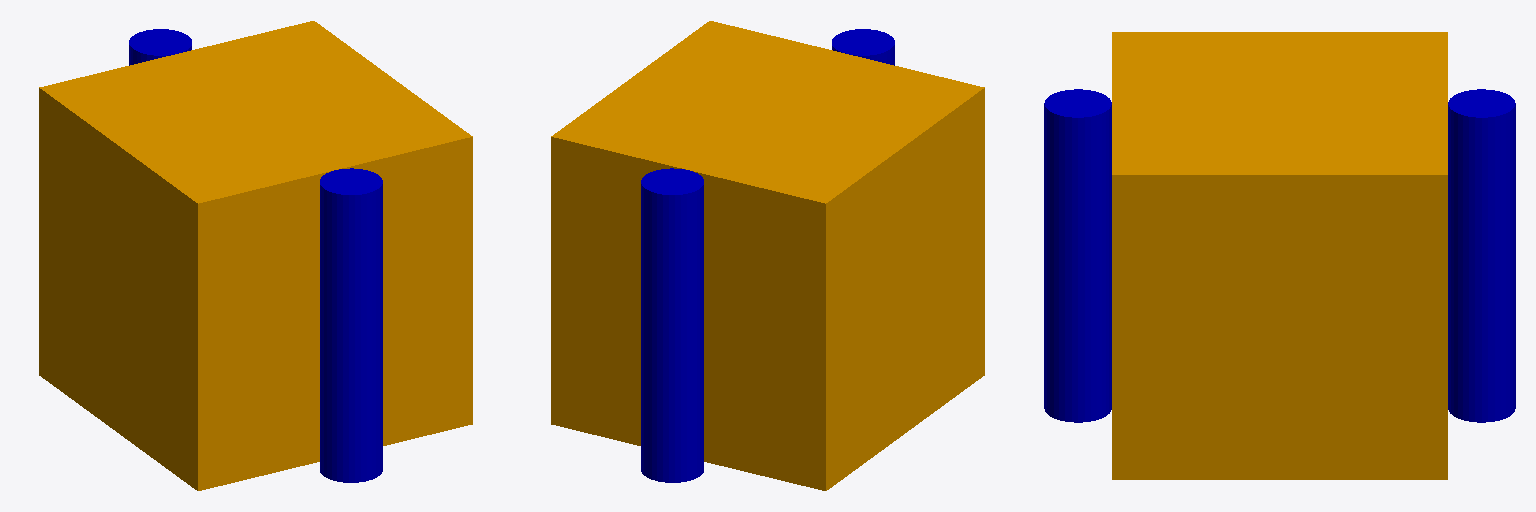
robot.urdf — myfirst:
<?xml version="1.0"?>
<robot name="myfirst">
  <link name="base_link">
    <visual>
      <geometry>
        <box size="1 1 1"/>
      </geometry>
      <origin xyz="0 0 0"/>
    </visual>
  </link>

	
  <joint name="left_joint" type="continuous">
    <parent link="base_link"/>
    <child link="left_link"/>
	<axis xyz="0 1 0"/>
	<origin xyz="0 -0.5 0.5"/>
  </joint>


   <link name="left_link">
    <visual>
      <geometry>
        <cylinder length="1" radius="0.1"/>
      </geometry>
      <origin xyz="0 -0.1 -0.5"/>
      <material name="blue">
        <color rgba="0 0 .8 1"/>
      </material>
    </visual>
  </link>

  <joint name="right_joint" type="continuous">
    <parent link="base_link"/>
    <child link="right_link"/>
	<axis xyz="0 1 0"/>
	<origin xyz="0 0.5 0.5"/>
  </joint>

   <link name="right_link">
    <visual>
      <geometry>
        <cylinder length="1" radius="0.1"/>
      </geometry>
      <origin xyz="0 0.1 -0.5"/>
      <material name="blue">
        <color rgba="0 0 .8 1"/>
      </material>
    </visual>
  </link>


</robot>

--- Render facts (derived) ---
3 views of the same robot in one strip: view 1: azimuth 30°, elevation 25°; view 2: azimuth 150°, elevation 25°; view 3: azimuth 270°, elevation 25° (orthographic).
Model myfirst with 3 links and 2 joints (2 continuous), rooted at base_link, posed all joints at 0.
Links seen in each view (by area): view 1: base_link, left_link, right_link; view 2: base_link, right_link, left_link; view 3: base_link, left_link, right_link.
Link boxes in pixels (box(x1,y1,x2,y2)): base_link: box(39, 21, 472, 490); left_link: box(320, 168, 382, 482); right_link: box(129, 29, 191, 65); base_link: box(551, 21, 984, 490); right_link: box(641, 168, 703, 482); left_link: box(832, 29, 894, 65); base_link: box(1112, 32, 1447, 479); left_link: box(1044, 89, 1111, 422); right_link: box(1448, 89, 1515, 422).
Size in the robot's own frame: 1 by 1.4 by 1 metres.
Geometry: primitives only (box / cylinder / sphere), no mesh files.
